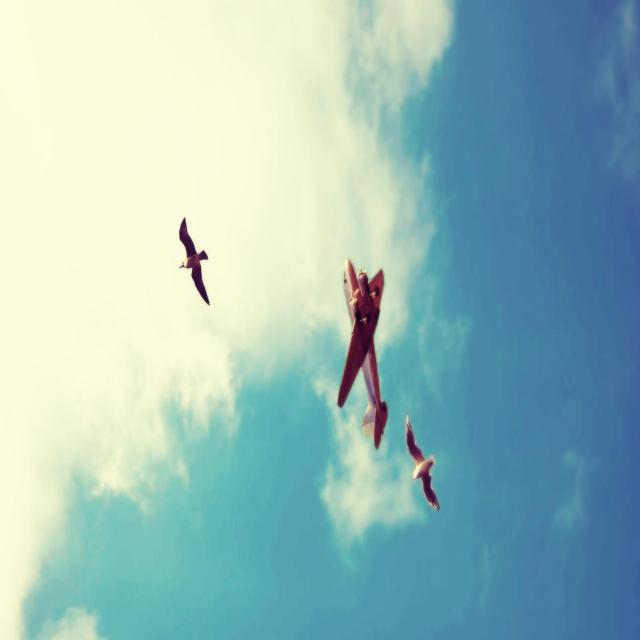airplane: (337, 258, 388, 449)
